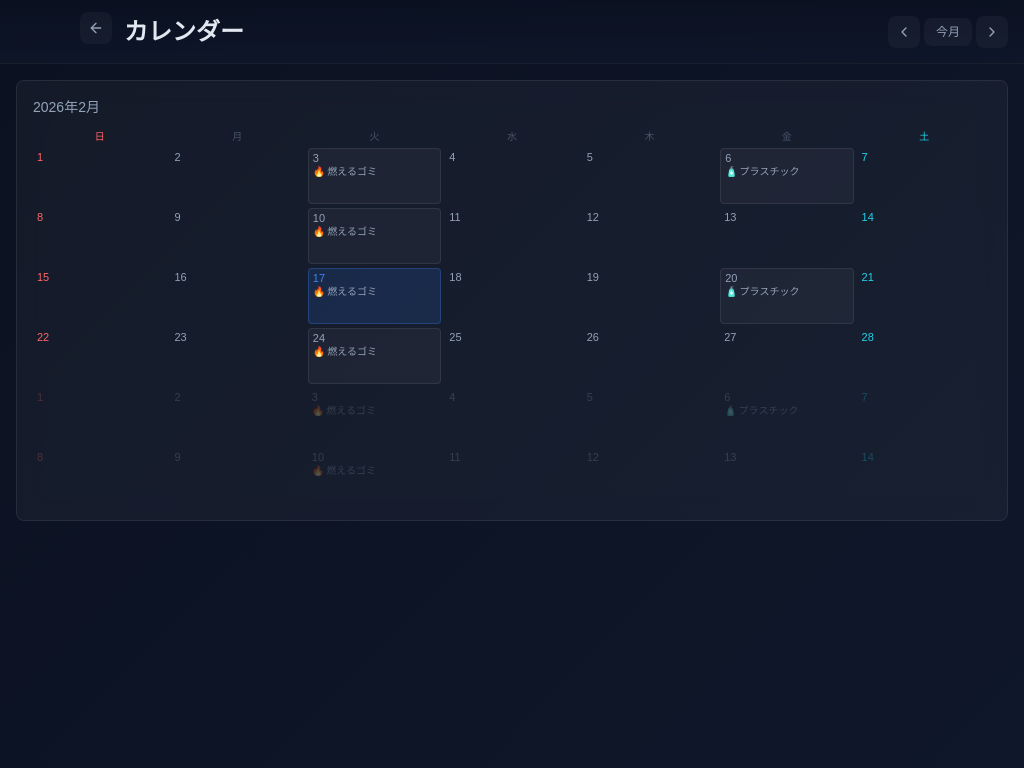
MonthlyCalendar › 月ナビゲーション › 今月ボタンで別月から現在月に戻る
Expected: the heading "2026年2月" is shown, [33, 99, 100, 115]
What coordinates should you click on to do the following:
click the button named "前月"
I would click on:
 (904, 32)
Its box is [888, 16, 920, 48].
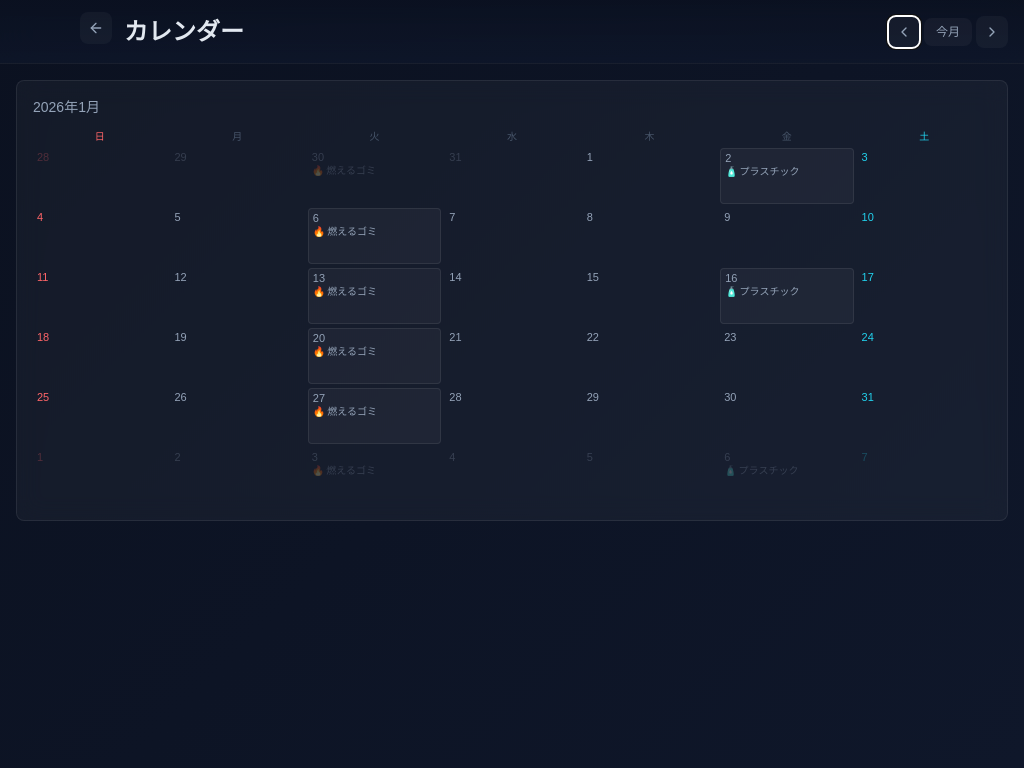
Expected: the heading "2026年1月" is shown, [33, 99, 100, 115]
What coordinates should you click on to do the following:
click the button "今月"
I would click on:
 (948, 32)
Its box is [924, 18, 972, 46].
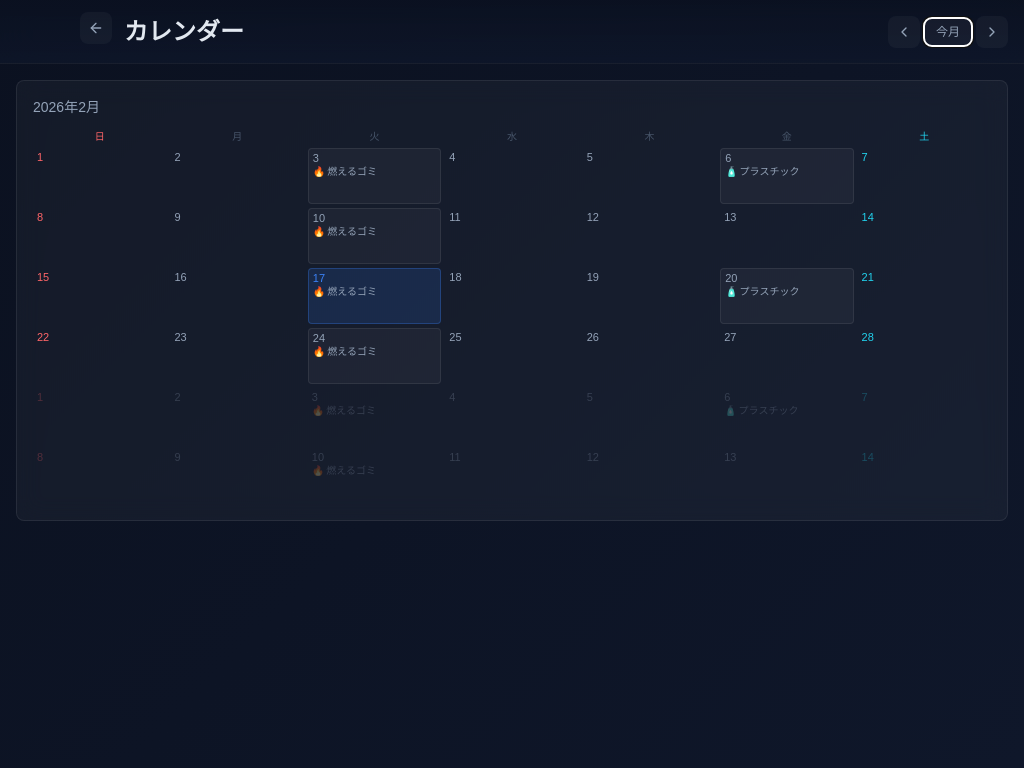
Expected: the heading "2026年2月" is shown, [33, 99, 100, 115]
